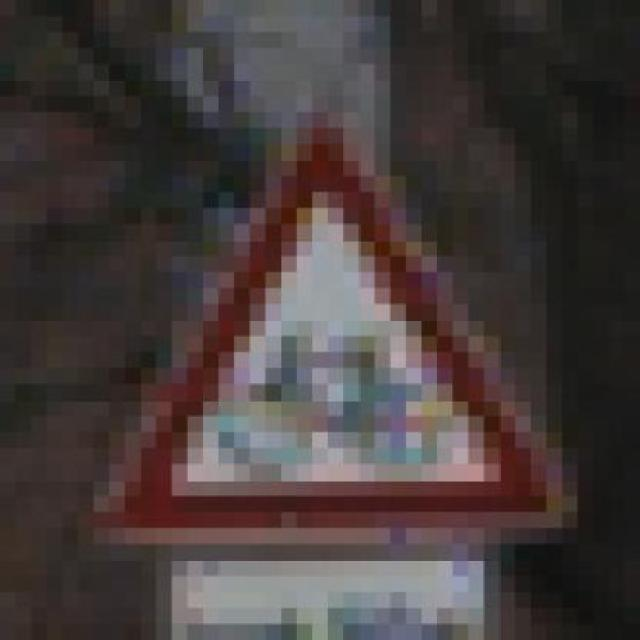CYCLE ROUTE AHEAD WARNING: (78, 112, 593, 576)
